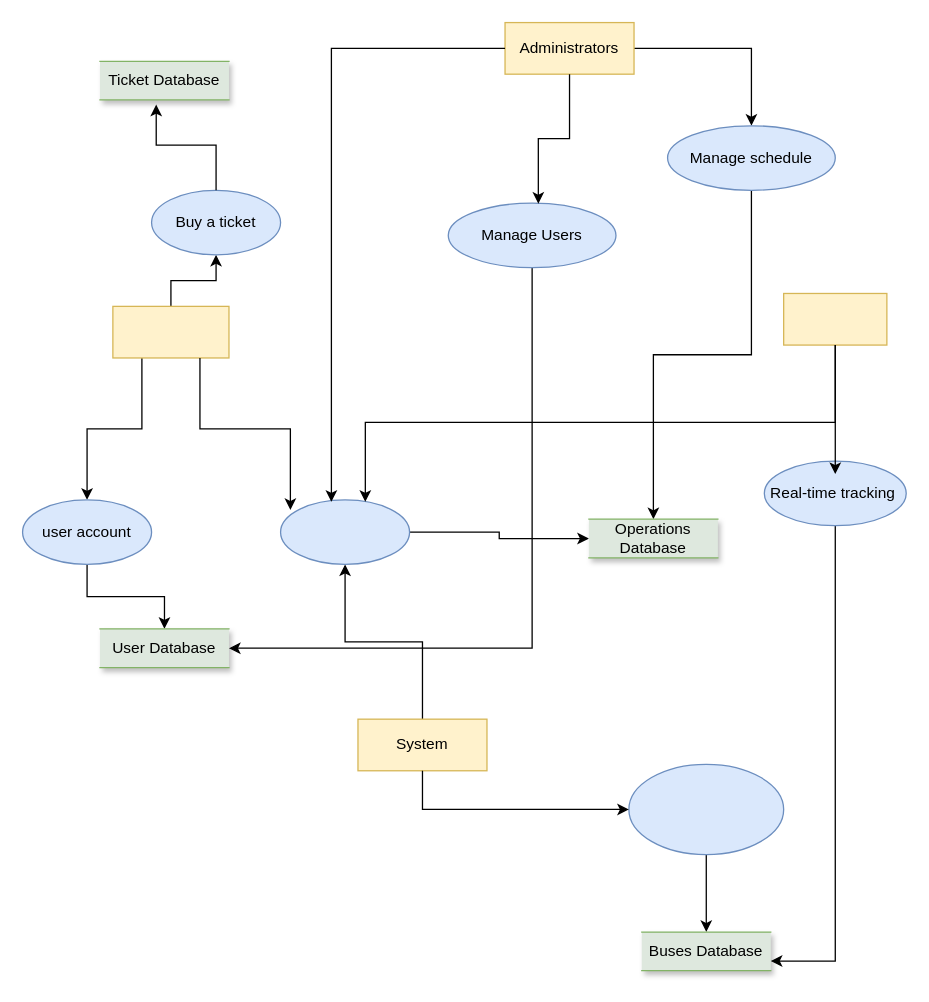
The diagram is 929 pixels wide and 1002 high, and some of its shapes have lost their labels. Here are the shapes that lost their labels. From the top down, the centre of each, then its label:
At pixel 170 331: "Users/ Passangers".
At pixel 834 318: "Drivers".
At pixel 344 531: "view timetable".
At pixel 706 809: "Real-time location updates".
